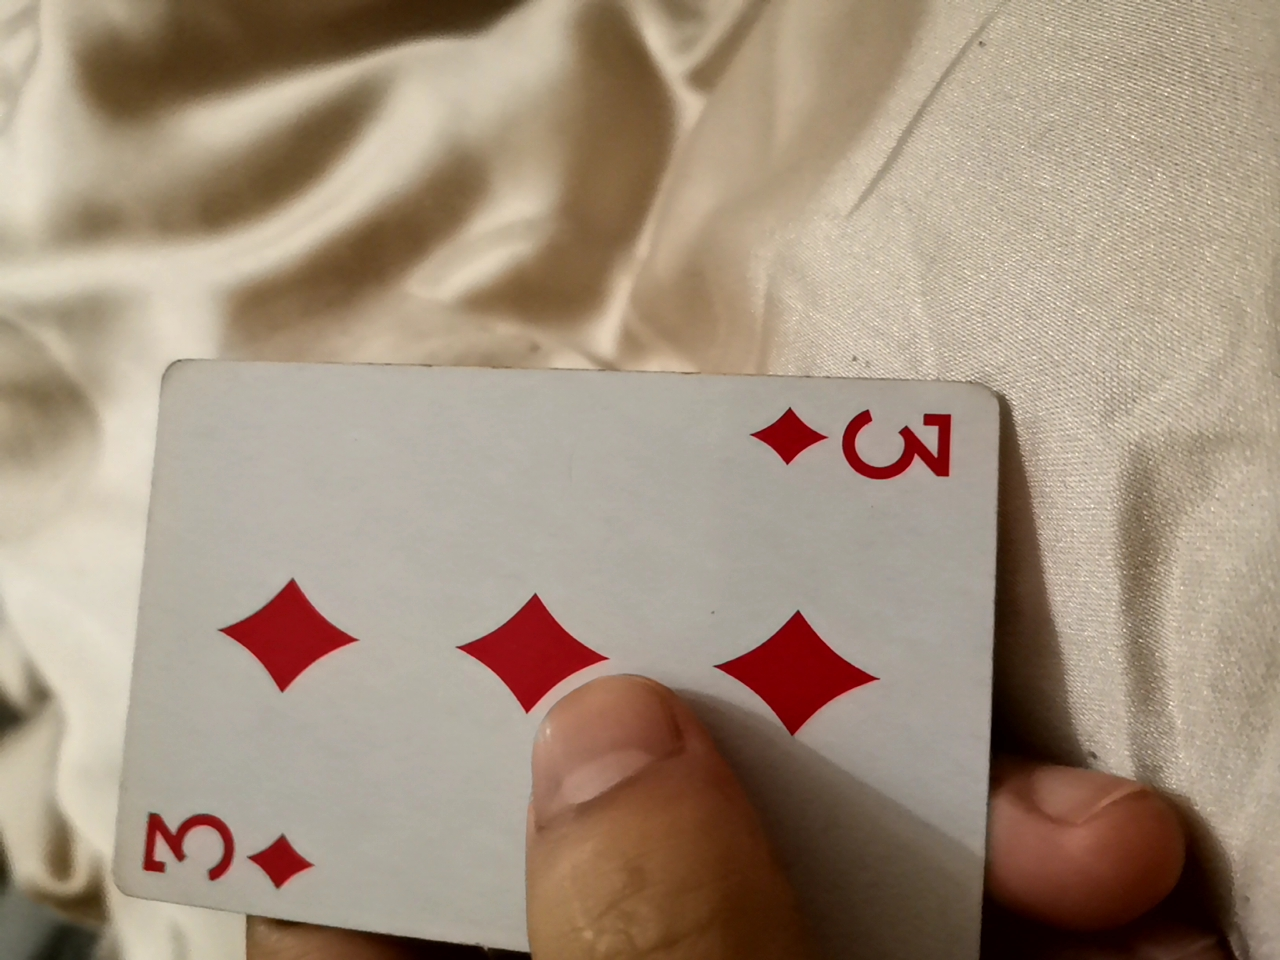fk 3: (82, 327, 1017, 956)
